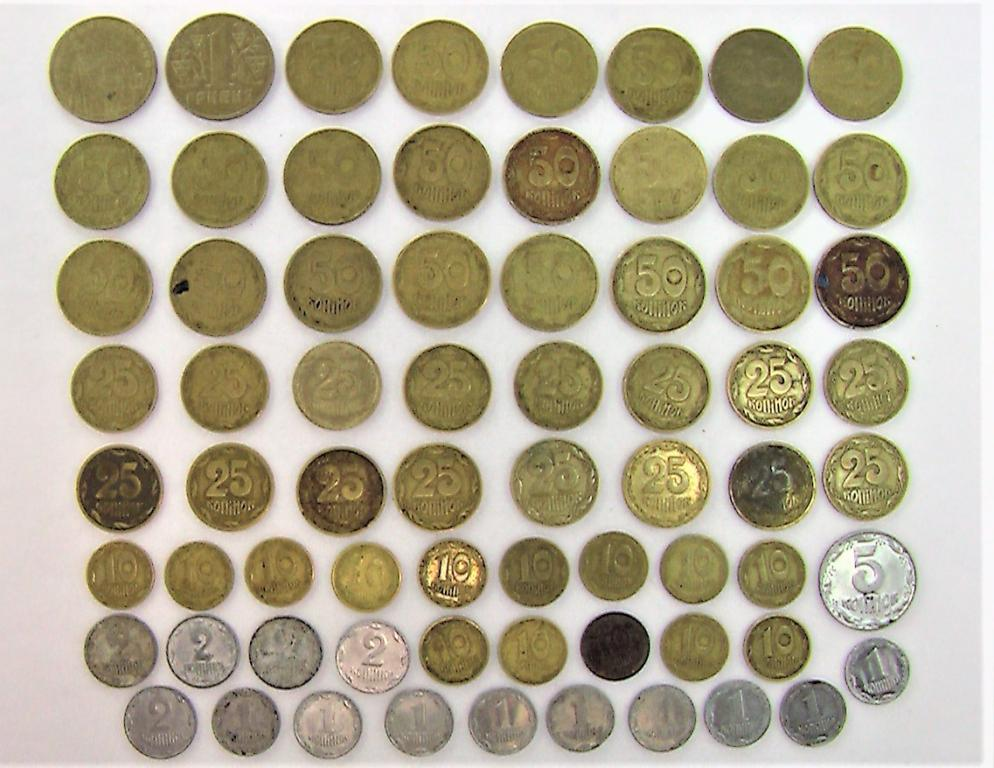coin_1: (702, 679, 773, 747), (468, 687, 537, 755), (629, 681, 699, 748), (293, 691, 361, 759), (210, 688, 277, 756), (842, 637, 912, 702), (780, 678, 849, 742), (387, 689, 453, 755)
coin_10: (53, 134, 150, 230), (812, 134, 909, 229), (578, 531, 648, 600), (243, 537, 314, 605), (735, 540, 807, 607), (163, 541, 235, 608), (581, 611, 651, 679), (498, 538, 569, 605), (85, 541, 156, 608), (418, 539, 489, 606), (660, 535, 730, 602), (331, 543, 400, 610), (660, 613, 728, 680), (499, 618, 567, 684), (421, 618, 488, 682), (745, 616, 809, 679)
coin_1_bn: (48, 16, 157, 124), (165, 13, 274, 121)
coin_2: (126, 685, 197, 759), (250, 616, 322, 688), (335, 622, 408, 693), (168, 613, 239, 685), (90, 613, 161, 685)
coin_25: (500, 234, 599, 330), (611, 127, 709, 223), (291, 341, 382, 431), (727, 441, 817, 529), (295, 447, 386, 533), (69, 346, 158, 433), (622, 441, 712, 527), (515, 342, 603, 429), (185, 443, 273, 529), (510, 440, 598, 526), (78, 445, 166, 531), (182, 345, 269, 431), (404, 344, 491, 430), (511, 440, 598, 526), (823, 339, 910, 425), (822, 434, 910, 519), (394, 444, 482, 529), (725, 343, 813, 428), (623, 346, 710, 431)
coin_2_bn: (822, 434, 910, 520)
coin_5: (817, 530, 918, 631)
coin_50: (168, 238, 268, 336), (285, 235, 382, 333), (284, 128, 381, 225), (55, 240, 153, 336), (393, 233, 491, 329), (394, 233, 492, 329), (171, 132, 268, 228), (285, 19, 382, 115), (811, 234, 909, 329), (502, 128, 601, 222), (712, 133, 809, 228), (714, 236, 811, 331), (53, 134, 150, 229), (501, 235, 598, 330), (394, 125, 490, 220), (392, 19, 489, 113), (500, 19, 597, 113), (606, 20, 703, 114), (809, 23, 905, 117), (813, 134, 909, 228), (709, 27, 804, 120), (613, 239, 706, 332), (395, 444, 481, 529), (726, 343, 813, 427), (293, 691, 361, 759), (547, 686, 615, 752)
